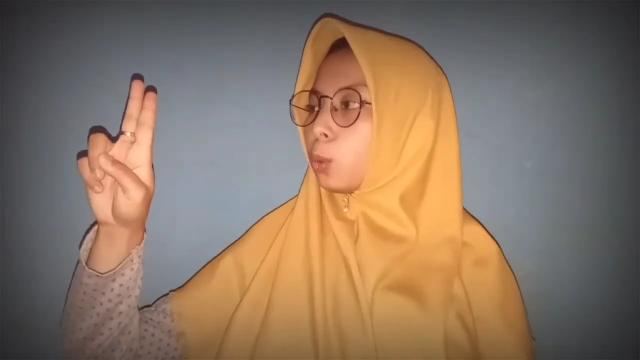U: (74, 72, 162, 231)
